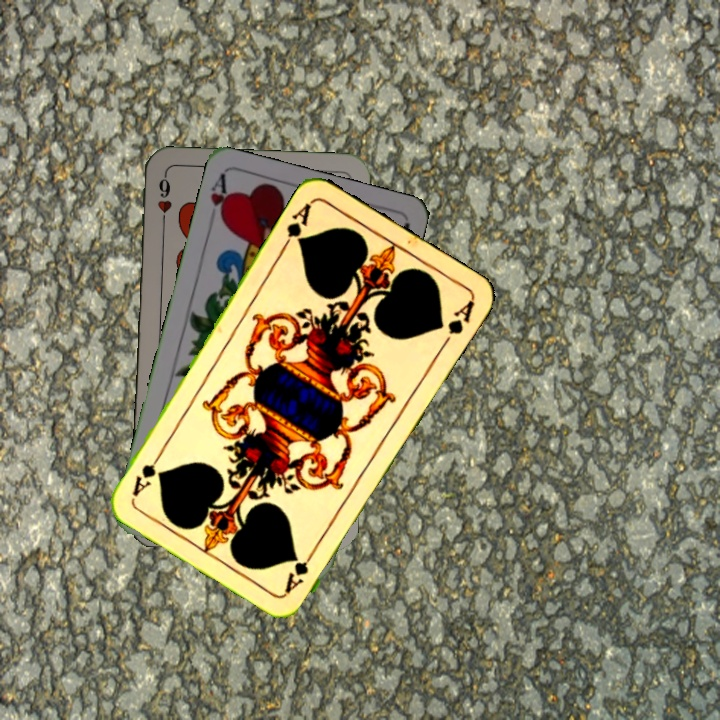GA: (280, 543, 320, 596), (278, 198, 314, 252)
H9: (154, 171, 175, 230)
HA: (206, 171, 234, 226)
